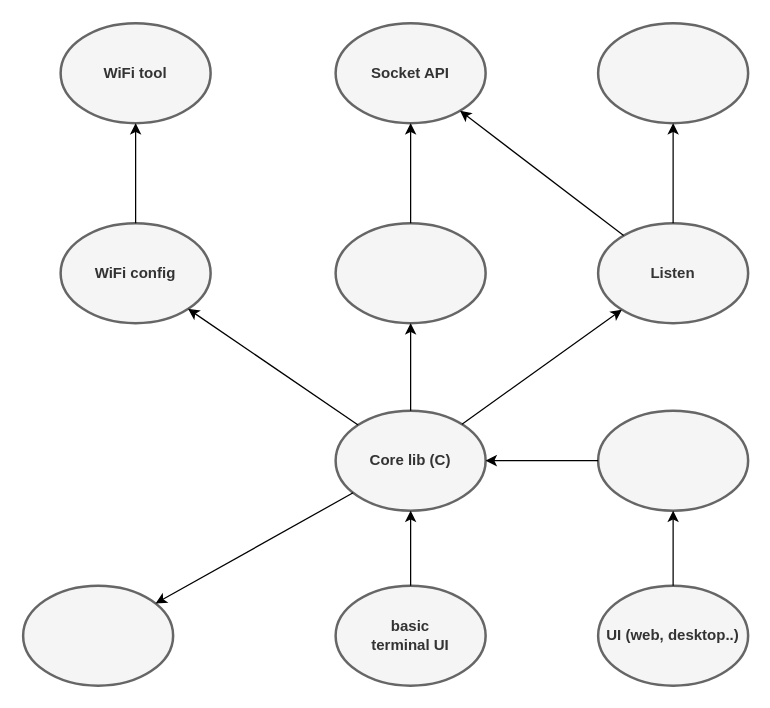
Image size: 770x708. Some labels were removed from this diagram. The shapes that lost their labels are listed below. From the top down, each one's centre as x and y in pixels, then its label:
At pixel 672 72: "Thread API".
At pixel 410 272: "Broadcast".
At pixel 672 460: "HTTP Server".
At pixel 97 635: "config (Network name, port...)".
